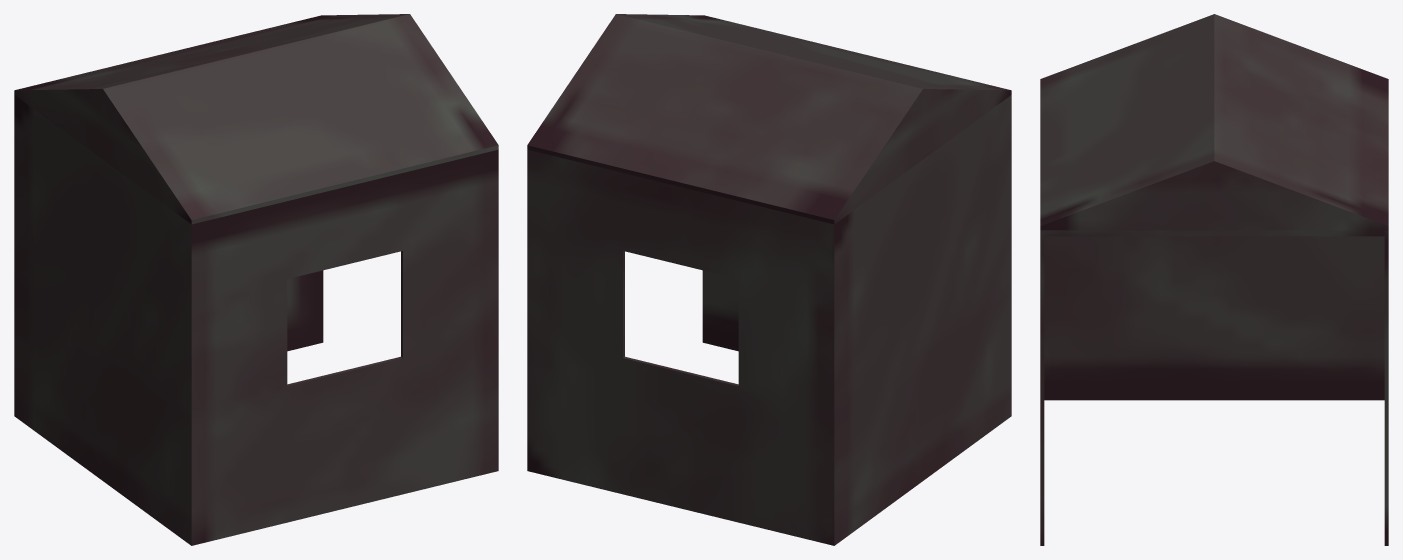
The model's file is Shed.fbx.
3 views of the same model, side by side, from view 1: azimuth 30°, elevation 25°; view 2: azimuth 150°, elevation 25°; view 3: azimuth 270°, elevation 25° (orthographic).
Parts seen in each view (by area): view 1: Shack; view 2: Shack; view 3: Shack.
Part boxes in pixels (x1,y1,x2,y2): Shack: (14,14,498,545); Shack: (527,14,1011,545); Shack: (1040,14,1388,545).
Size of the model in its own units: 3201 by 3905 by 3201.
Materials: 1 (1 with a texture image).
